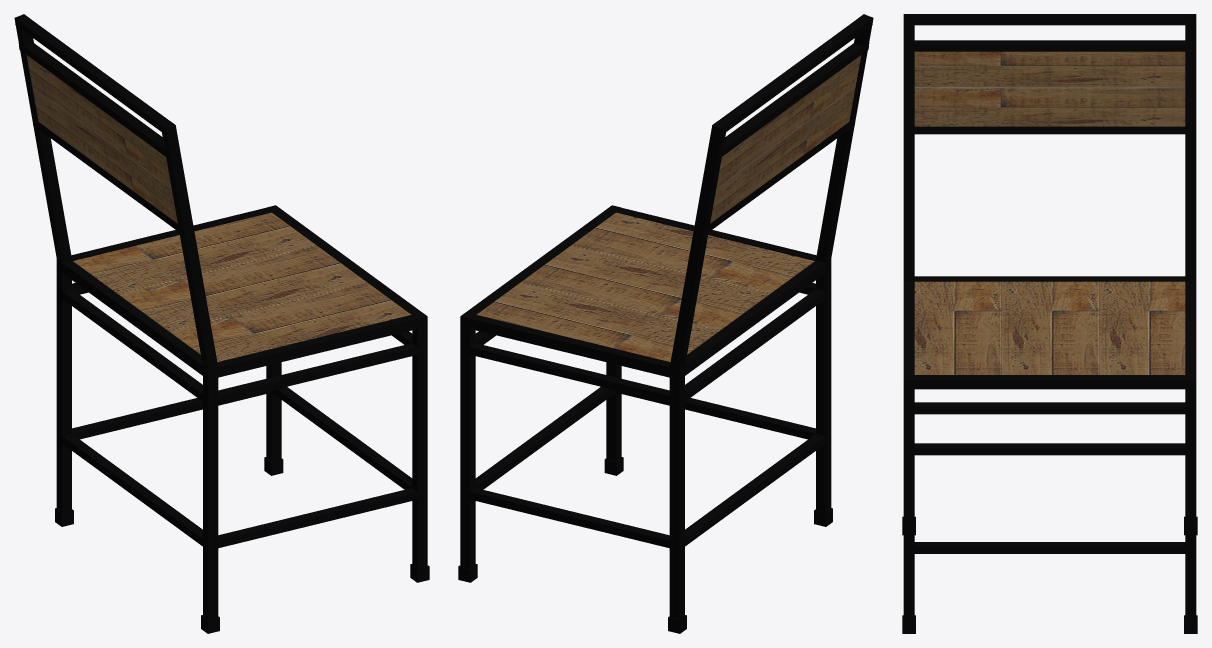
Rendered from example21.glb.
3 views of the same model, side by side, from view 1: azimuth 30°, elevation 25°; view 2: azimuth 150°, elevation 25°; view 3: azimuth 270°, elevation 25° (orthographic). The views are drawn at different scales.
Visible parts, largest first — view 1: Merged Objects 1, СИДУШКА, спинка; view 2: Merged Objects 1, СИДУШКА, спинка; view 3: Merged Objects 1, СИДУШКА, спинка.
Part boxes in pixels (x1,y1,x2,y2): Merged Objects 1: (14, 14, 429, 633); СИДУШКА: (73, 212, 411, 361); спинка: (26, 55, 177, 223); Merged Objects 1: (458, 14, 873, 633); СИДУШКА: (476, 212, 814, 361); спинка: (710, 55, 861, 223); Merged Objects 1: (902, 14, 1197, 633); СИДУШКА: (914, 281, 1185, 374); спинка: (914, 51, 1185, 126).
Size of the model in its own units: 0.436 by 0.8186 by 0.4401.
3 materials, 2 textured.
